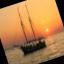fishing boat: (1, 0, 50, 59)
